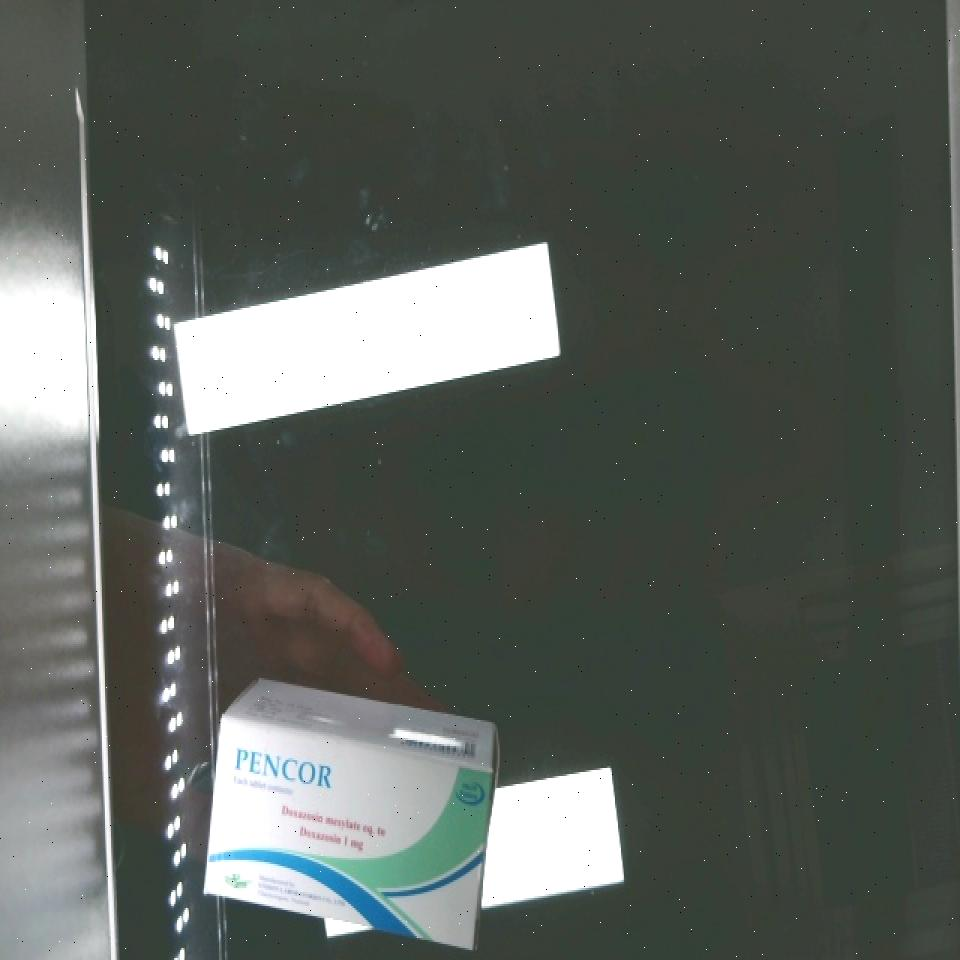medicine_box: (187, 717, 509, 954)
medicine_label_obb: (208, 721, 354, 807)
